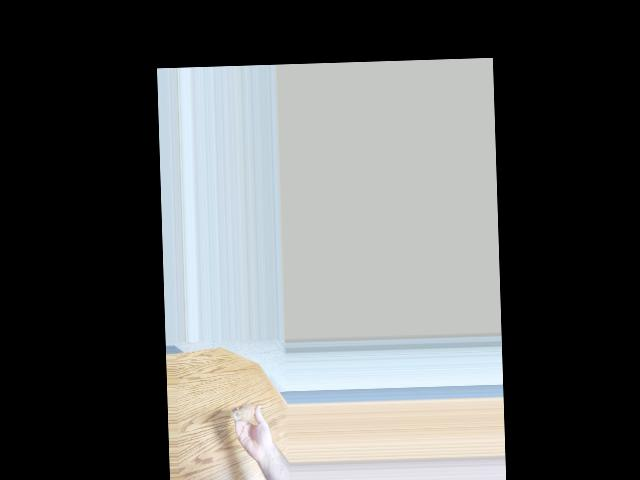sweet_potato: (232, 396, 258, 421)
